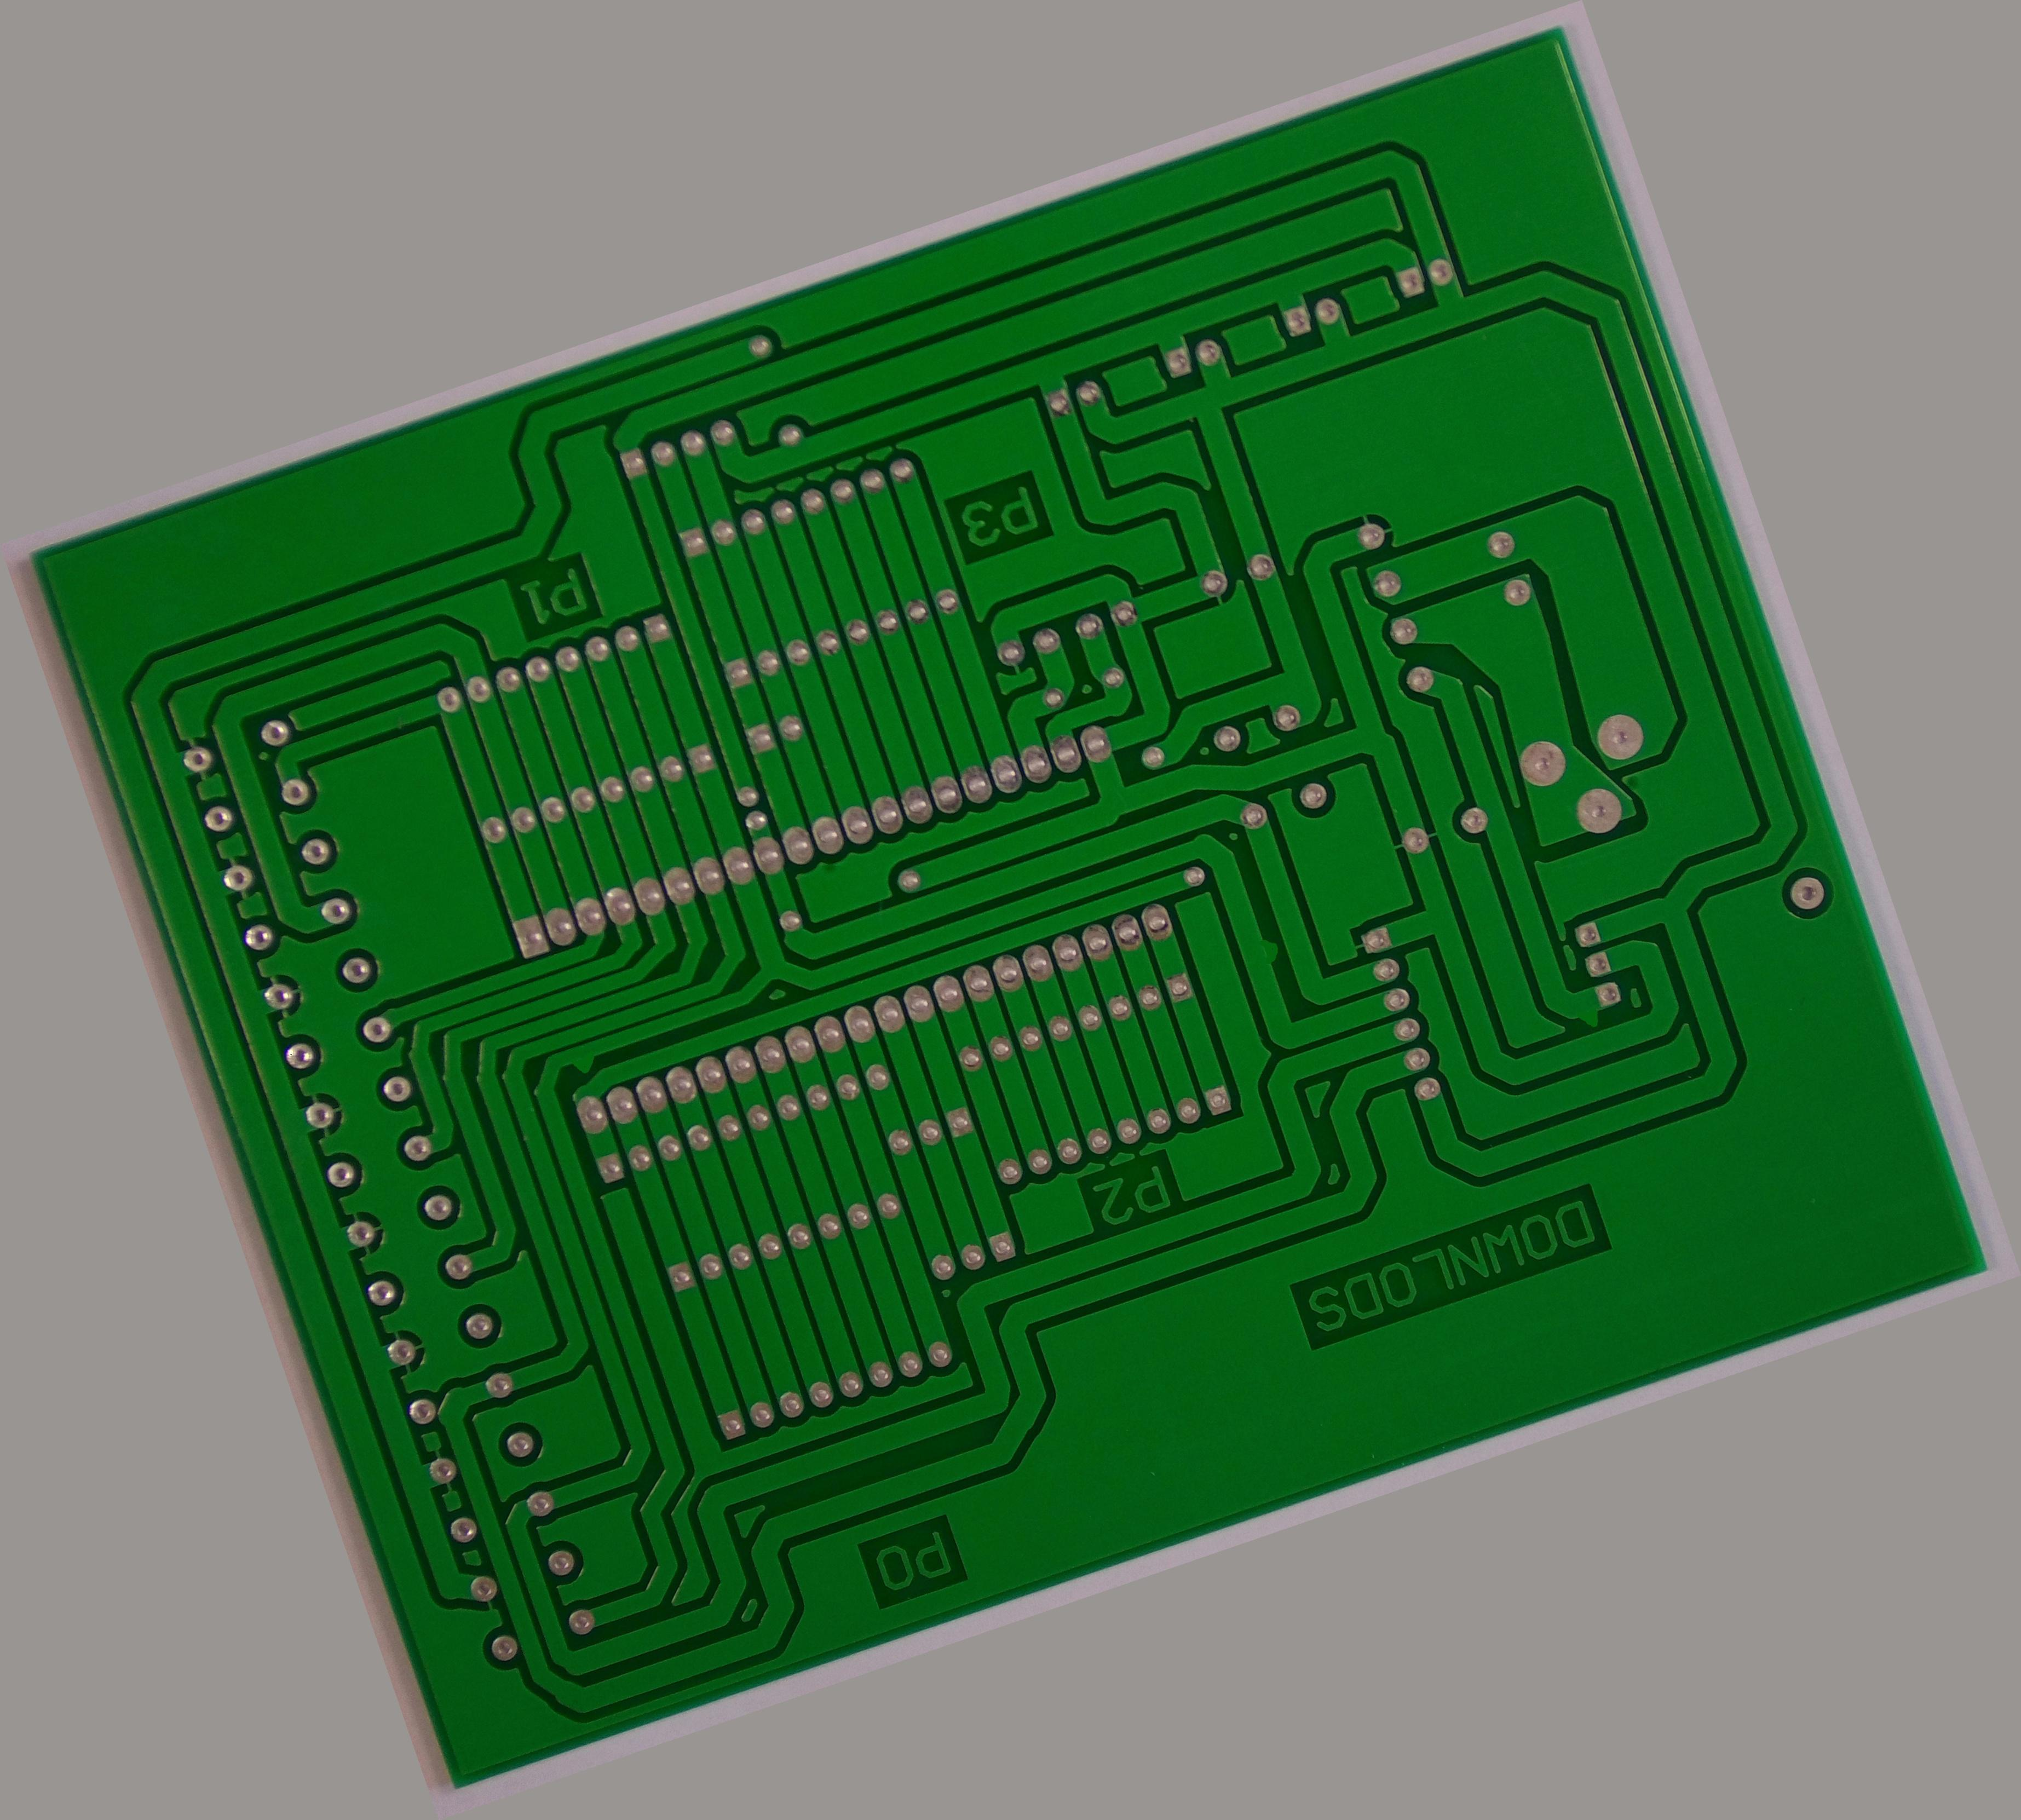spur: (555, 1038, 612, 1084), (1244, 924, 1288, 977), (1573, 996, 1613, 1036)
